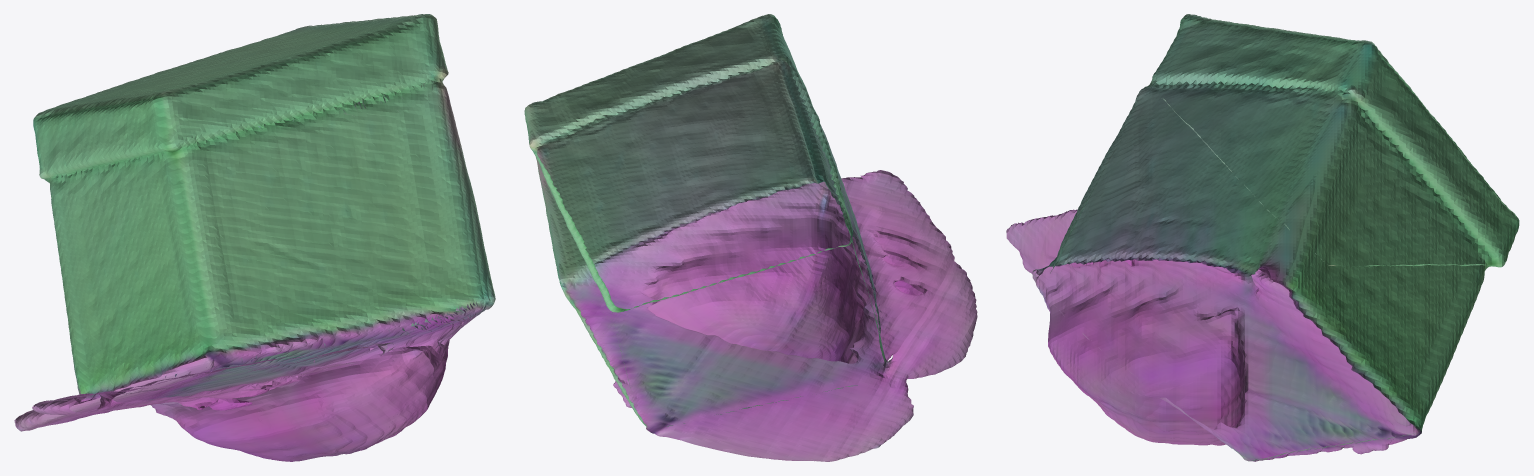
The picture shows the model from 3 angles, left to right: view 1: azimuth 30°, elevation 25°; view 2: azimuth 150°, elevation 25°; view 3: azimuth 270°, elevation 25°; orthographic projection. The views are drawn at different scales.
Visible parts, largest first — view 1: geometry_0; view 2: geometry_0; view 3: geometry_0.
Boxes of the visible parts, <box> form: geometry_0: <box>14,14,495,461</box>; geometry_0: <box>524,14,977,461</box>; geometry_0: <box>1006,14,1519,461</box>.
Bounding box in the file's own units: 1.6 × 1.39 × 1.55.
